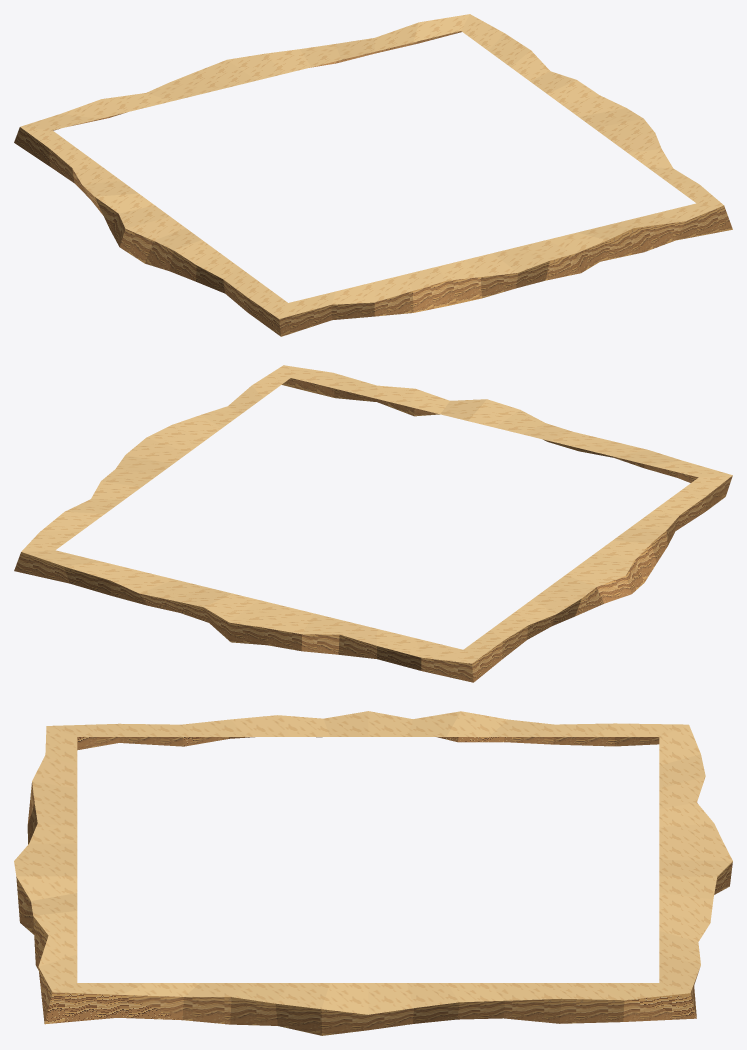
Rendered from entorno_18.fbx.
The picture shows the model from 3 angles, top to bottom: view 1: azimuth 30°, elevation 25°; view 2: azimuth 150°, elevation 25°; view 3: azimuth 270°, elevation 25°; orthographic projection. The views are drawn at different scales.
Visible parts, largest first — view 1: deserto_entorno_18; view 2: deserto_entorno_18; view 3: deserto_entorno_18.
Boxes of the visible parts, x1,y1,x2,y2 form: deserto_entorno_18: (14,14,732,336); deserto_entorno_18: (14,365,732,682); deserto_entorno_18: (14,711,732,1035).
Bounding box in the file's own units: 2260 × 107 × 2249.
2 materials, 2 textured.
